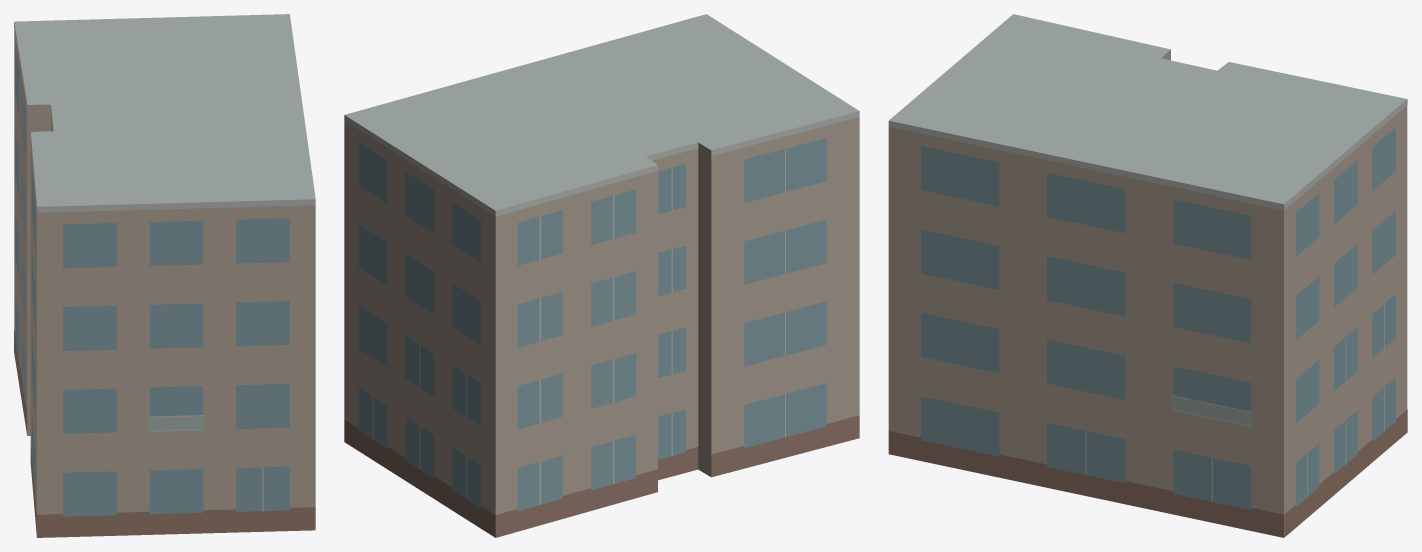
Rendered from survey-upis-33016732.glb.
3 renders of one model, left to right at view 1: azimuth 30°, elevation 25°; view 2: azimuth 150°, elevation 25°; view 3: azimuth 270°, elevation 25°, orthographic.
Visible parts, largest first — view 1: survey-upis-33016732.tmp; view 2: survey-upis-33016732.tmp; view 3: survey-upis-33016732.tmp.
Boxes of the visible parts, left/top/right/bottom form: survey-upis-33016732.tmp: left=14, top=14, right=315, bottom=537; survey-upis-33016732.tmp: left=344, top=14, right=859, bottom=537; survey-upis-33016732.tmp: left=888, top=14, right=1407, bottom=537.
Bounding box in the file's own units: 16.53 × 13.5 × 19.04.
